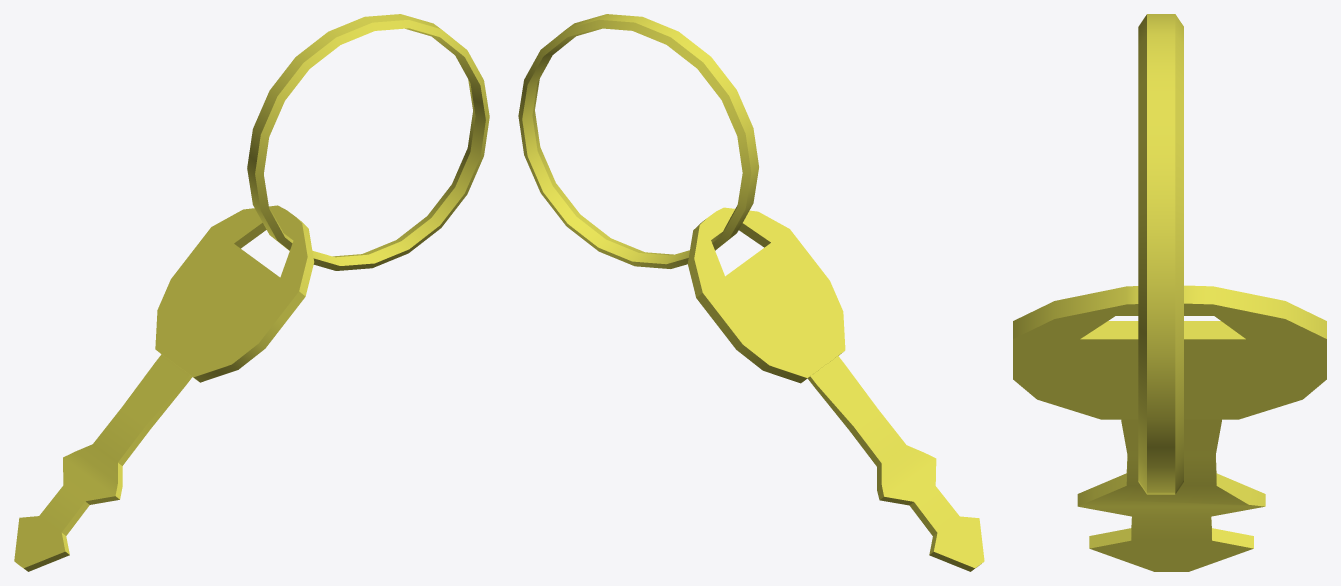
Rendered from Key.fbx.
3 views of the same model, side by side, from view 1: azimuth 30°, elevation 25°; view 2: azimuth 150°, elevation 25°; view 3: azimuth 270°, elevation 25° (orthographic). The views are drawn at different scales.
Visible parts, largest first — view 1: Key; view 2: Key; view 3: Key.
Boxes of the visible parts, <box> form: Key: <box>14,14,489,571</box>; Key: <box>518,14,984,571</box>; Key: <box>1013,14,1326,571</box>.
Size of the model in its own units: 37.33 by 35.94 by 12.24.
